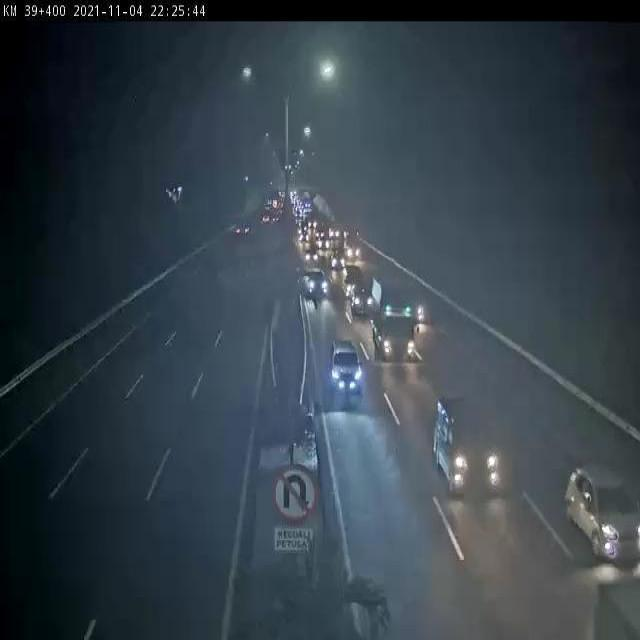car: (562, 461, 640, 560), (432, 397, 504, 496), (321, 334, 368, 398), (303, 267, 329, 305), (352, 284, 376, 319), (407, 289, 425, 323), (344, 266, 363, 298), (344, 234, 361, 262), (234, 217, 253, 240), (331, 248, 345, 271), (316, 231, 332, 251), (305, 246, 318, 262)
truck: (372, 272, 421, 361)
